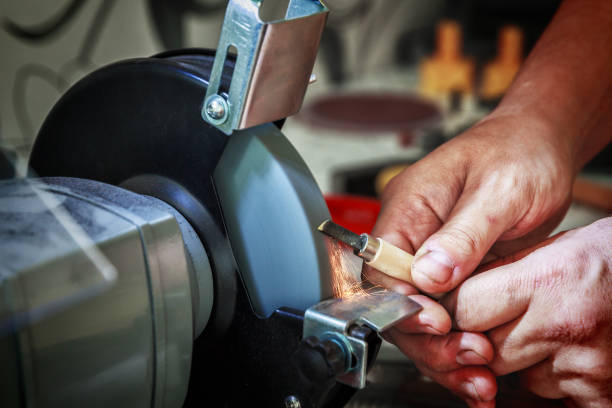knife: (318, 219, 416, 283)
